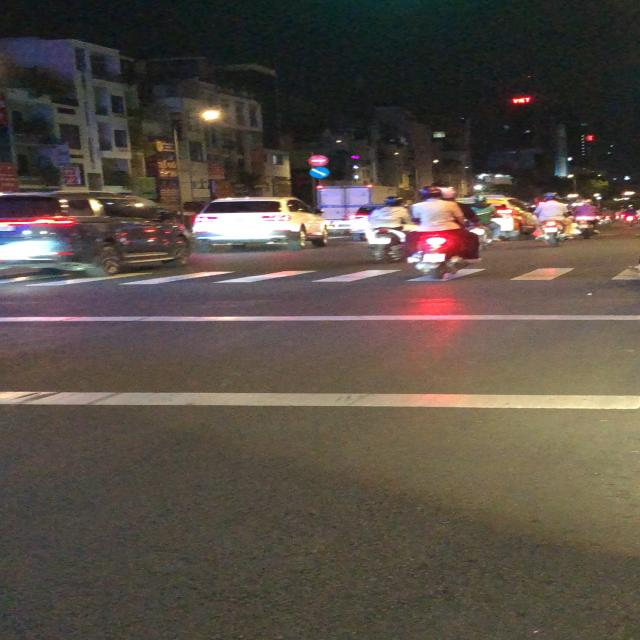Bien bao cam di nguoc chieu: (306, 154, 332, 167)
Bien bao huong phai di vong chuong ngai vat: (308, 166, 330, 180)
